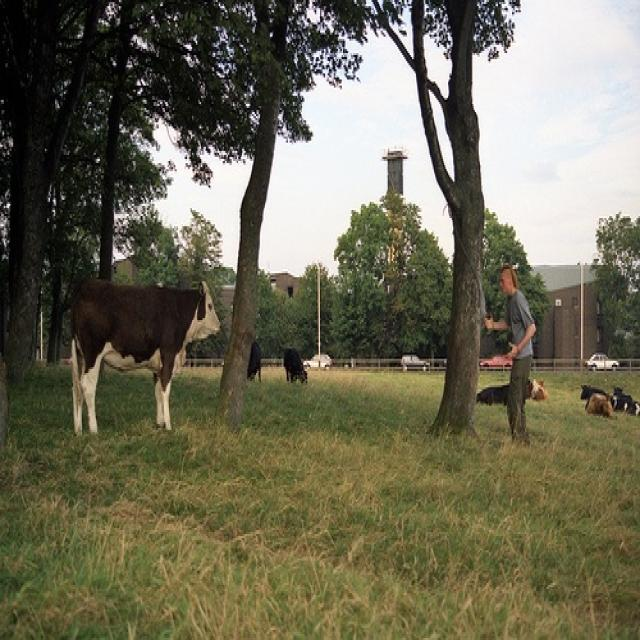light_vehicle: (586, 353, 620, 373), (401, 351, 430, 373), (305, 350, 330, 369), (480, 355, 513, 369)
